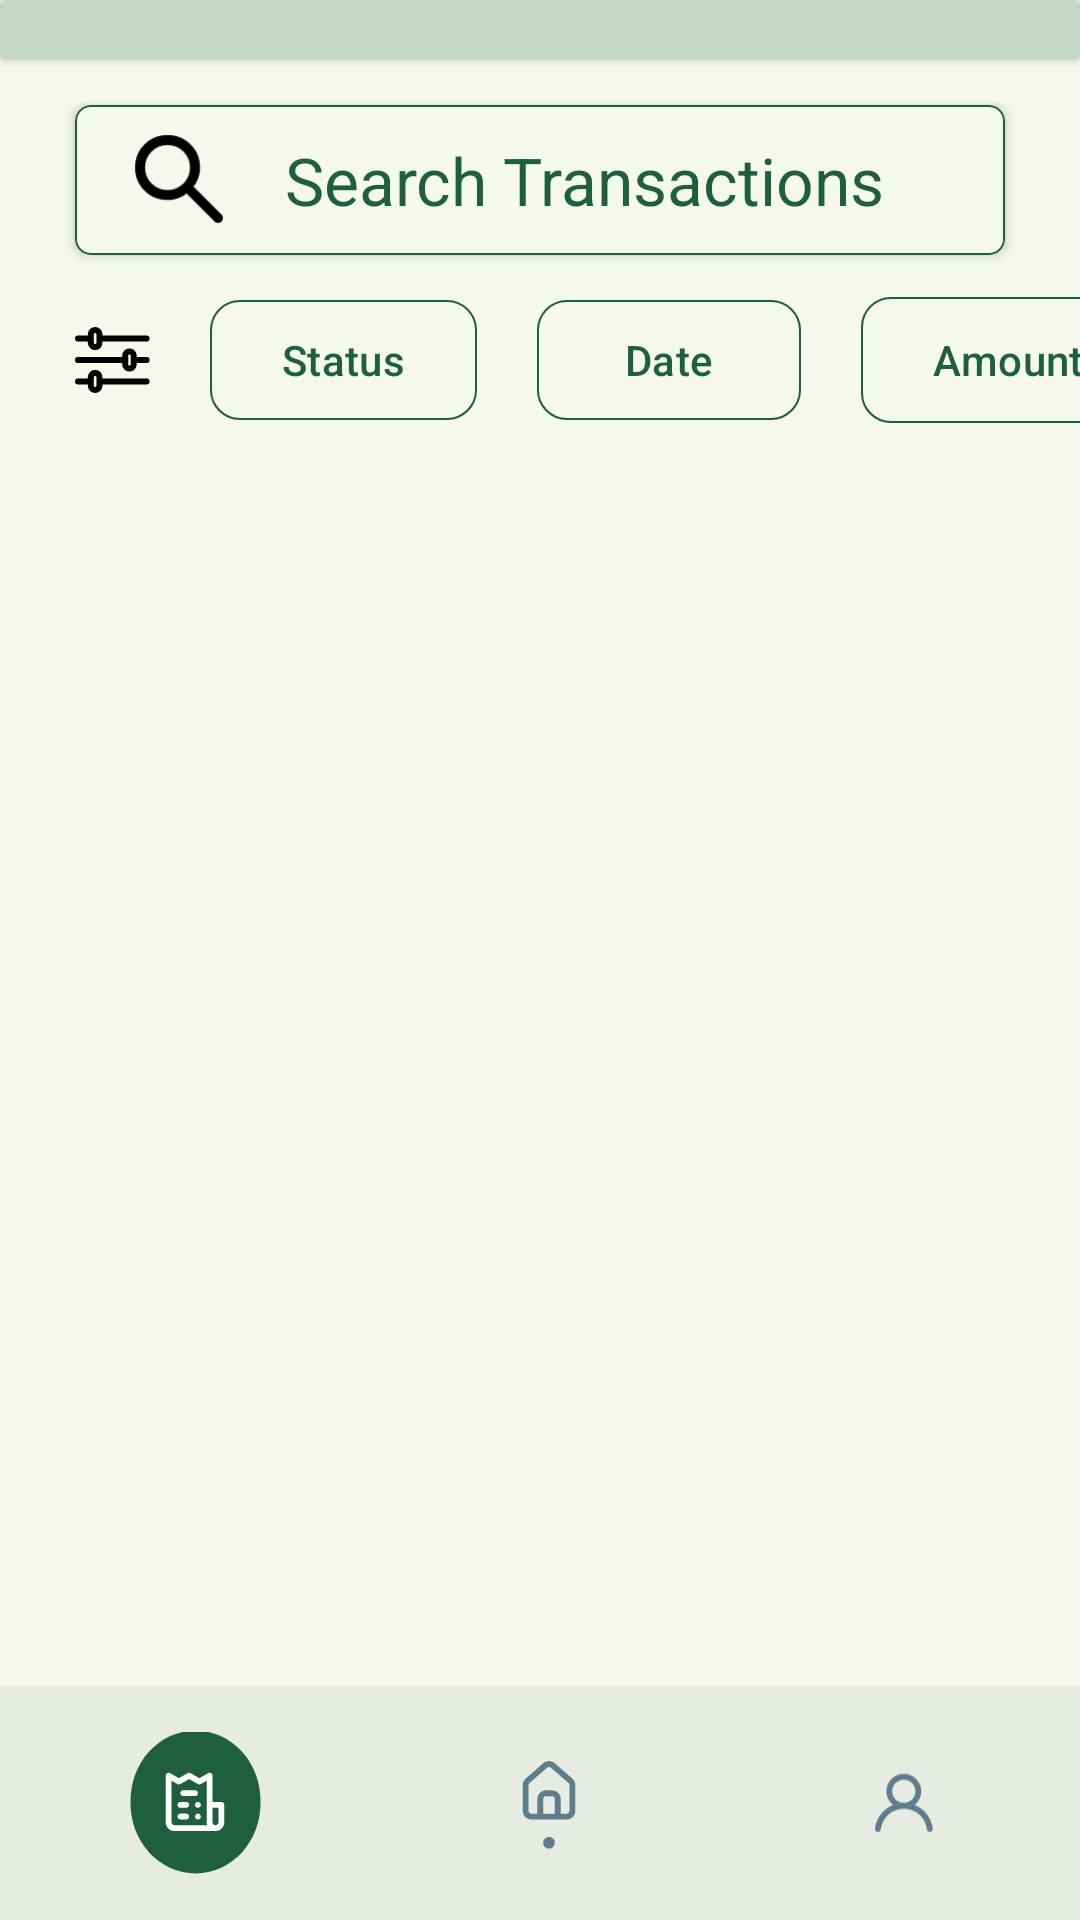

Icons on this 1080px×1920px Android screen, each with its box as (x1, y1, x2, y2):
profile: (875, 1773, 933, 1832)
